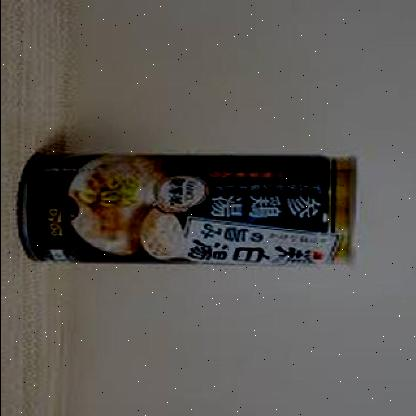Can: (15, 152, 361, 266)
